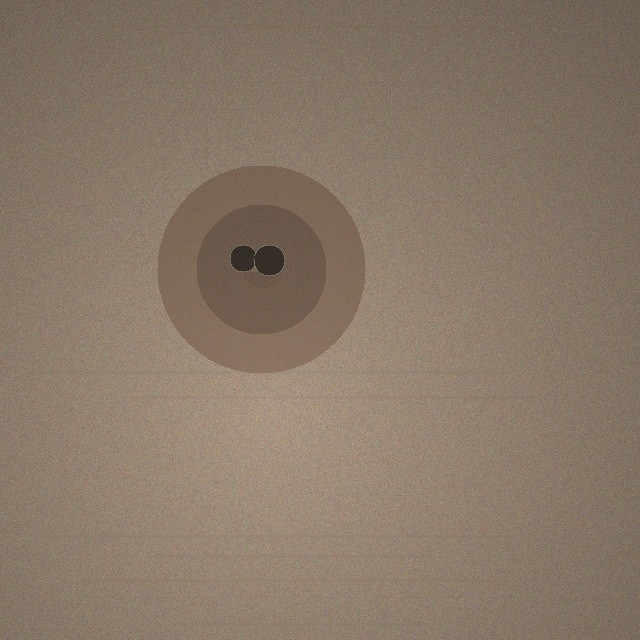shrinkage: (157, 165, 365, 373)
